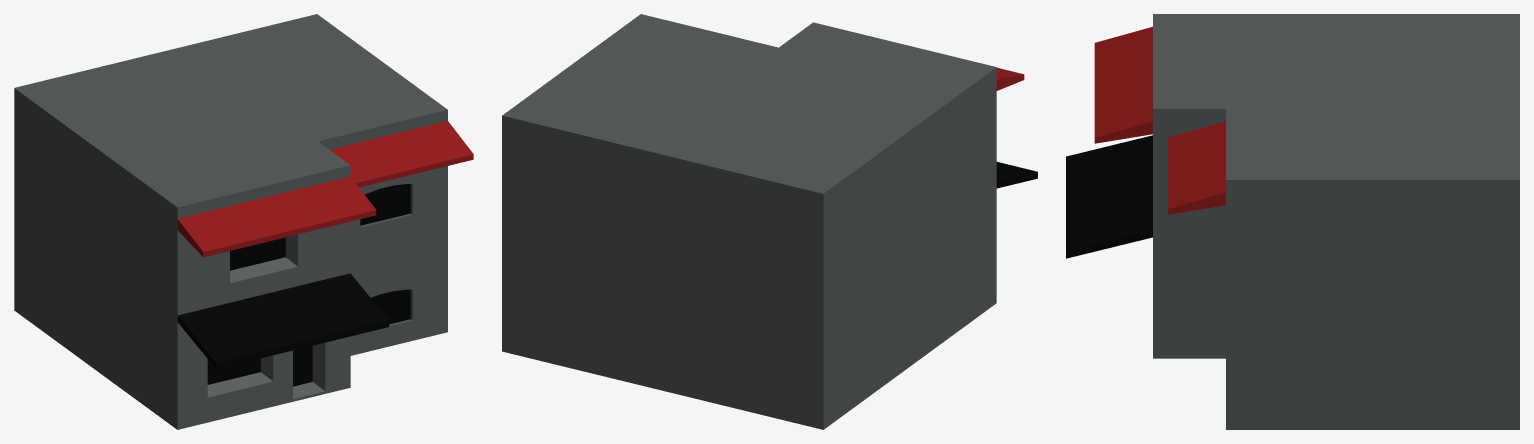
File: loja_15.fbx
The picture shows the model from 3 angles, left to right: view 1: azimuth 30°, elevation 25°; view 2: azimuth 150°, elevation 25°; view 3: azimuth 270°, elevation 25°; orthographic projection. The views are drawn at different scales.
Parts seen in each view (by area): view 1: Cube; view 2: Cube; view 3: Cube.
Boxes of the visible parts, x1=… form: Cube: x1=14, y1=14, x2=473, y2=429; Cube: x1=502, y1=14, x2=1037, y2=429; Cube: x1=1066, y1=14, x2=1519, y2=429.
Size of the model in its own units: 1277 by 896 by 1475.
